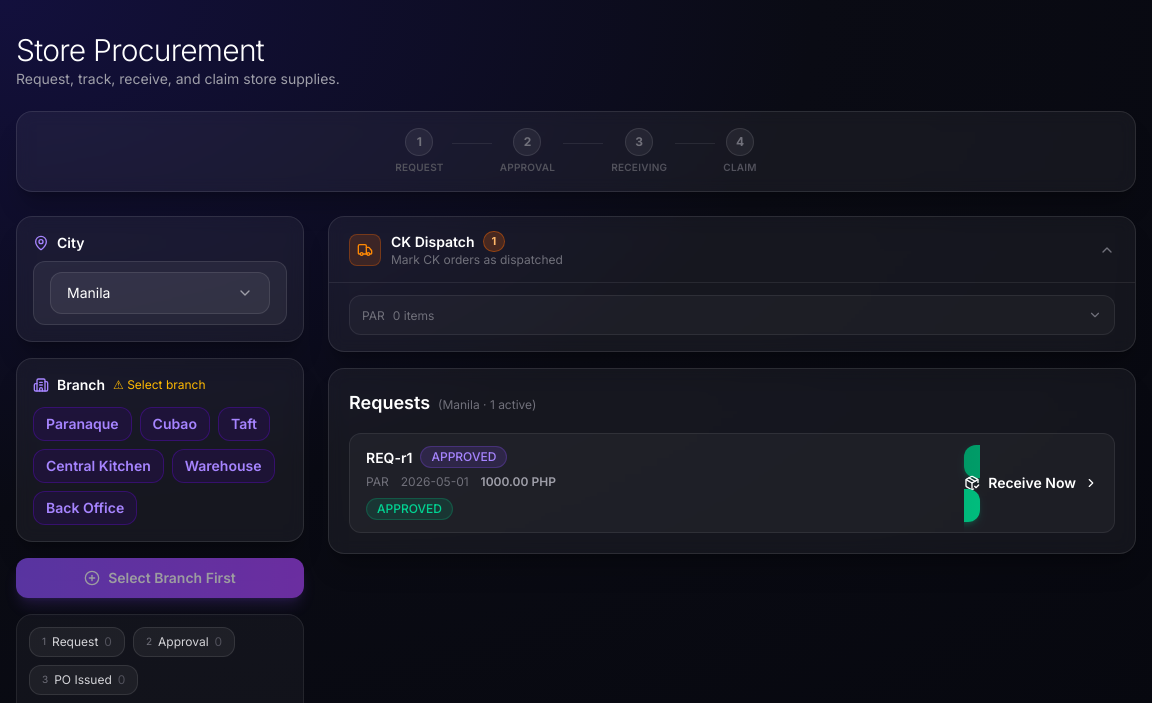
Fix 1: Drawer footer — status-aware footer buttons › APPROVED → footer shows 'Receive Now' link pointing to receiving page
Click the text "REQ-r1" at point(389, 457), box top-left (366, 449), bottom-right (412, 466)
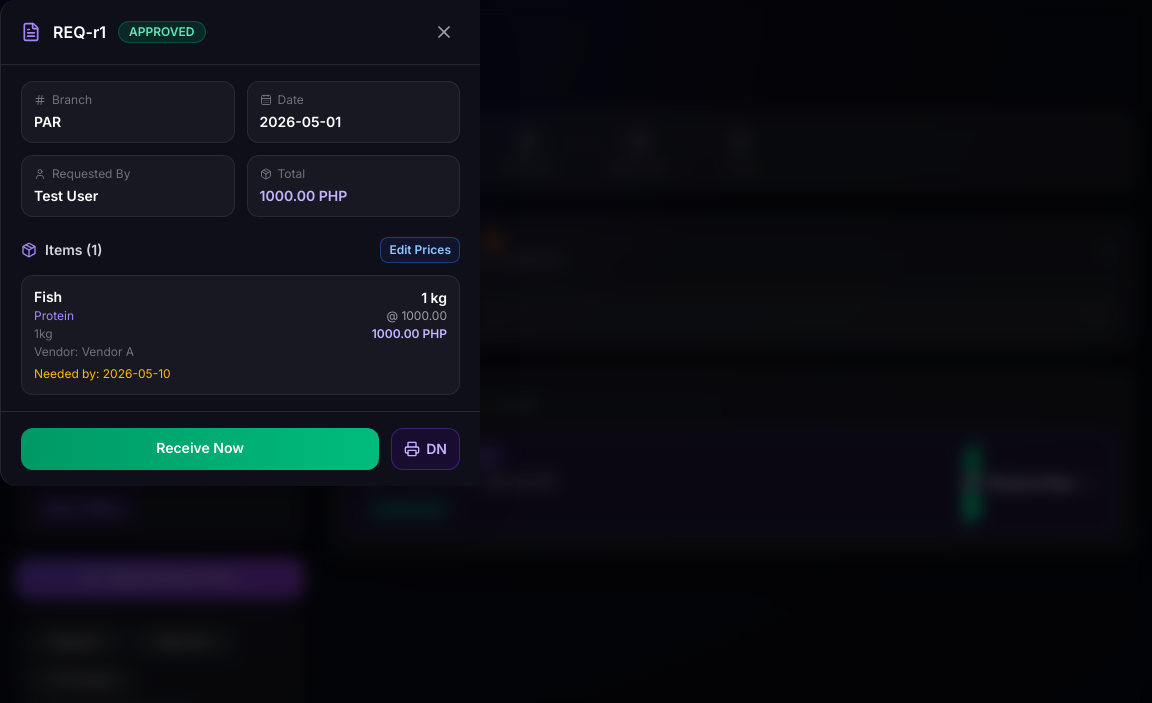
Expected: the 2nd link "Receive Now" is shown, top-left (964, 446), bottom-right (1098, 522)
Now the text "Test User" is shown, box top-left (34, 187), bottom-right (98, 204)
